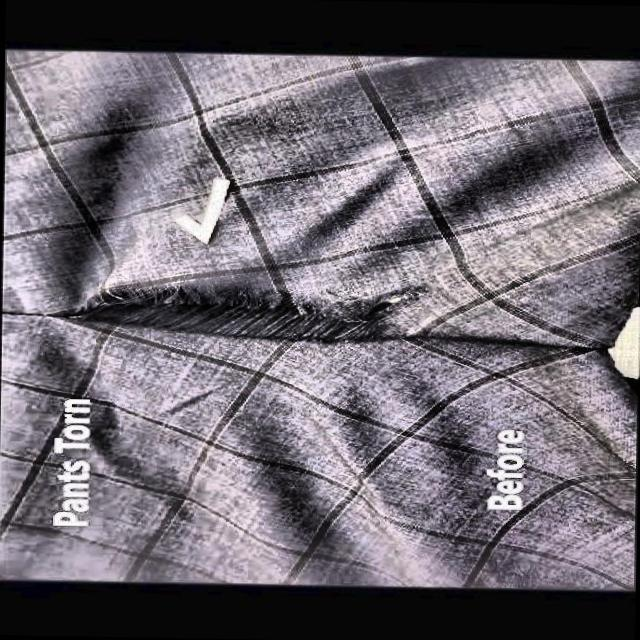gray stitch: (74, 270, 418, 362)
